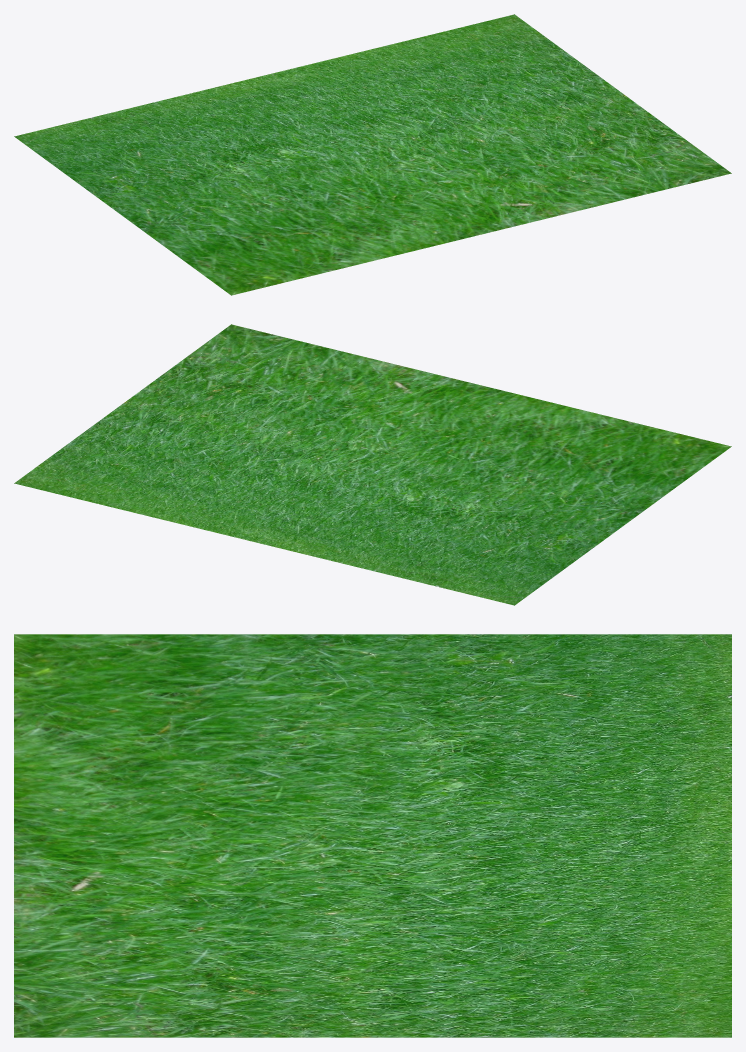
File: GrassField2.FBX
The picture shows the model from 3 angles, top to bottom: view 1: azimuth 30°, elevation 25°; view 2: azimuth 150°, elevation 25°; view 3: azimuth 270°, elevation 25°; orthographic projection. The views are drawn at different scales.
Visible parts, largest first — view 1: Plane01; view 2: Plane01; view 3: Plane01.
Part boxes in pixels (left/top/right/bottom): Plane01: left=14, top=14, right=731, bottom=295; Plane01: left=14, top=324, right=731, bottom=605; Plane01: left=14, top=634, right=731, bottom=1037.
Bounding box in the file's own units: 266 × 5.67e-14 × 200.
Materials: 1 (1 with a texture image).
